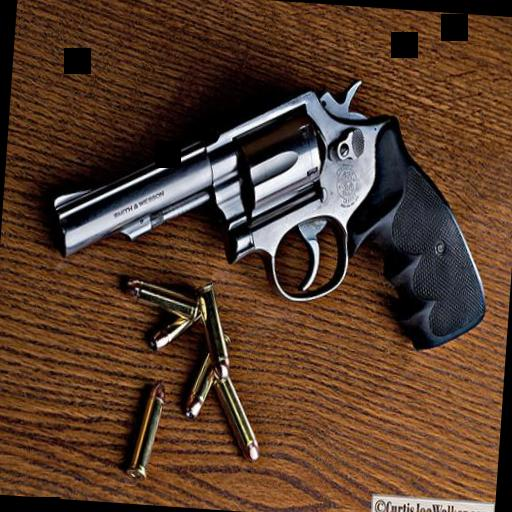Handgun: (40, 47, 505, 379)
